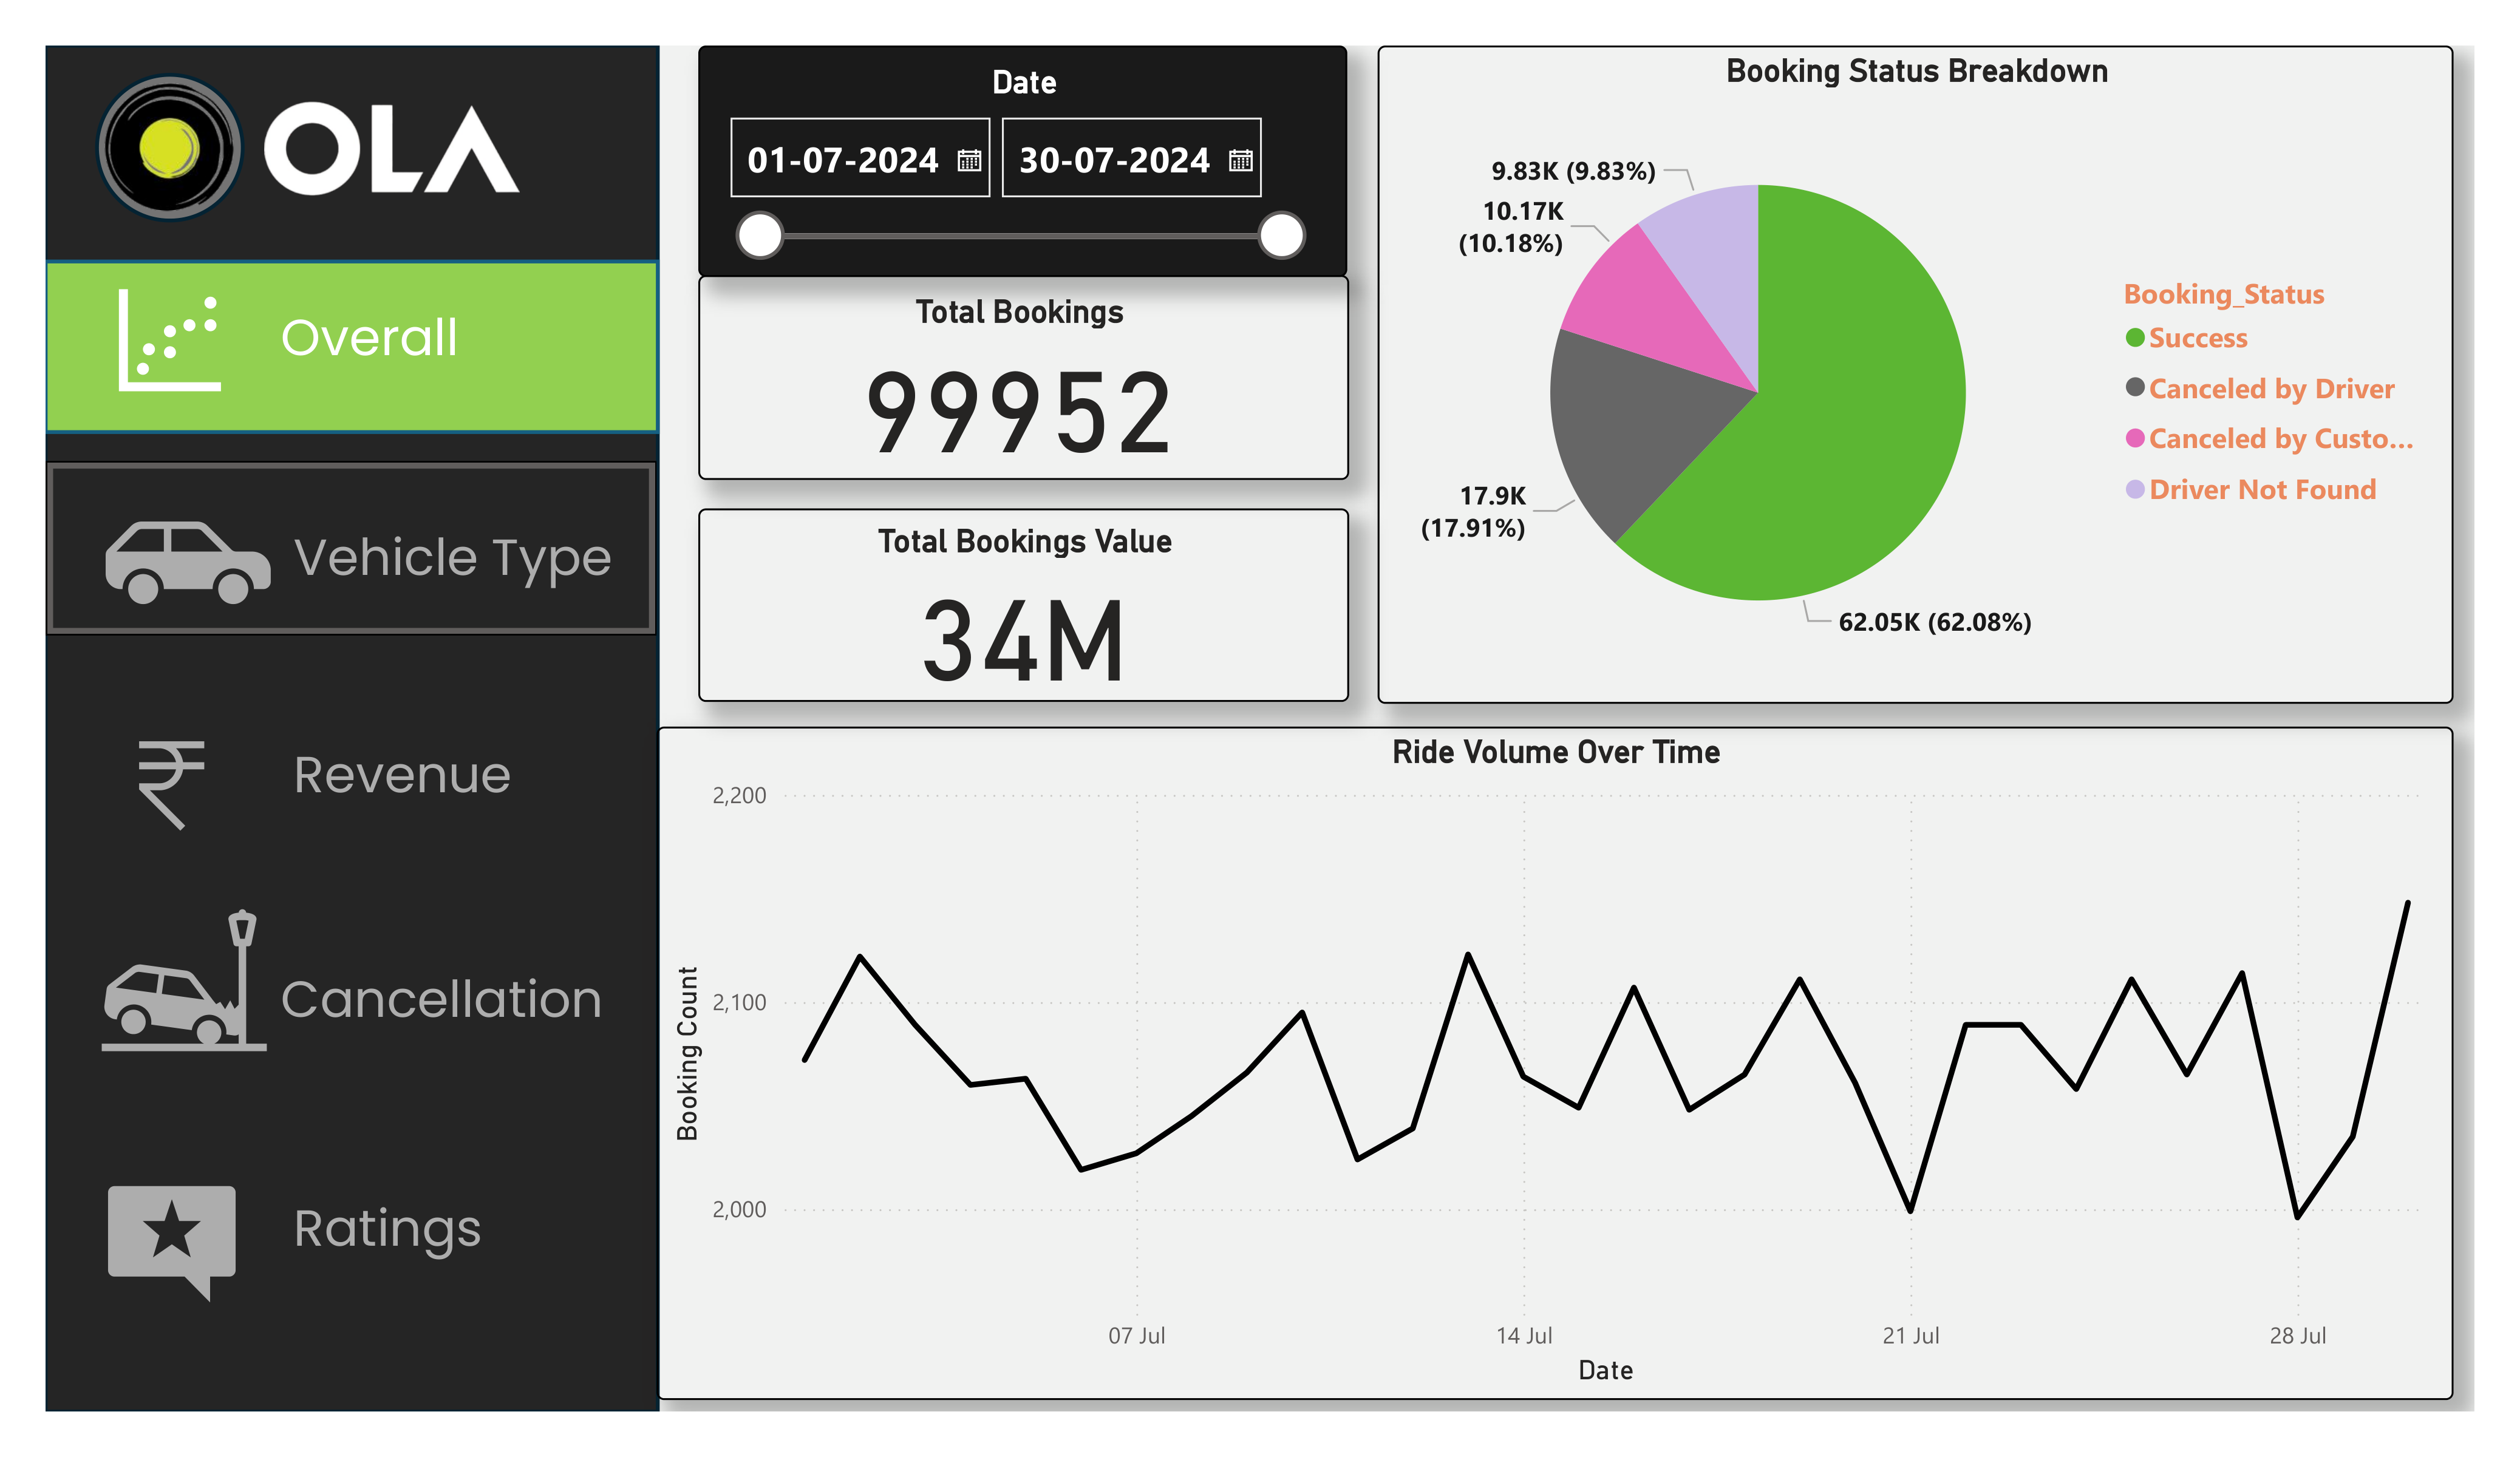

The dashboard page shown, as its layout file describes it:
{"tool":"powerbi","page":{"name":"Overall","canvas":[1280,720],"ordinal":0},"visuals":[{"type":"actionButton","box":[0,219.2,322.1,92],"z":0},{"type":"lineChart","title":"Ride Volume Over Time","fields":{"Y":["CountNonNull(July.Booking_ID)"],"Category":["July.Date"]},"box":[321.5,359.4,947.9,354.9],"z":1000},{"type":"pieChart","title":"Booking Status Breakdown","fields":{"Category":["July.Booking_Status"],"Y":["CountNonNull(July.Booking_ID)"]},"box":[702.2,0,567.2,347.3],"z":2000},{"type":"slicer","title":"Date","fields":{"Values":["July.Date"]},"box":[343.8,0,342.4,121.8],"z":3000},{"type":"card","title":"Total Bookings","fields":{"Values":["CountNonNull(July.Booking_ID)"]},"box":[344.3,121.3,342.7,107.7],"z":4000},{"type":"card","title":"Total Bookings Value","fields":{"Values":["Sum(July.Booking_Value)"]},"box":[344.3,244.2,342.7,101.6],"z":5000}]}

Visuals, with their boxes on the page's 1280x720 design canvas (x1, y1, x2, y2). These are canvas units, not pixel positions in the 2520x1457 screenshot, which may show the page scaled, cropped or inside an application window:
actionButton: <box>0,219,322,311</box>
"Ride Volume Over Time" lineChart: <box>322,359,1269,714</box>
"Booking Status Breakdown" pieChart: <box>702,0,1269,347</box>
"Date" slicer: <box>344,0,686,122</box>
"Total Bookings" card: <box>344,121,687,229</box>
"Total Bookings Value" card: <box>344,244,687,346</box>
